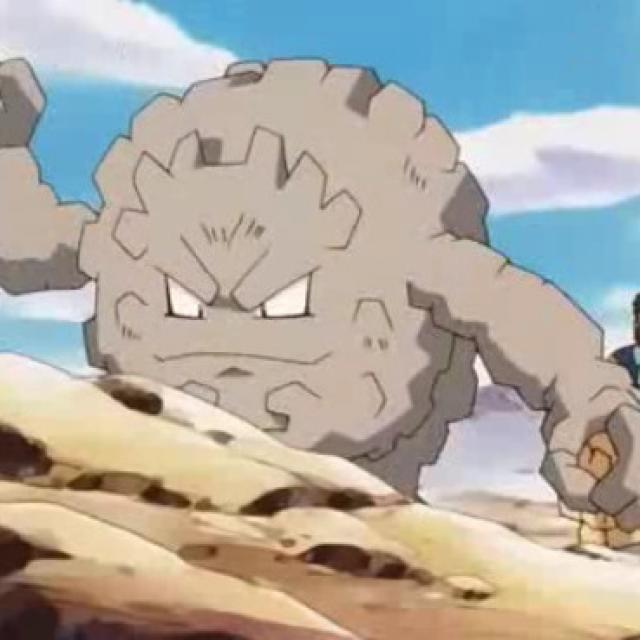Graveler: (49, 44, 526, 464)
